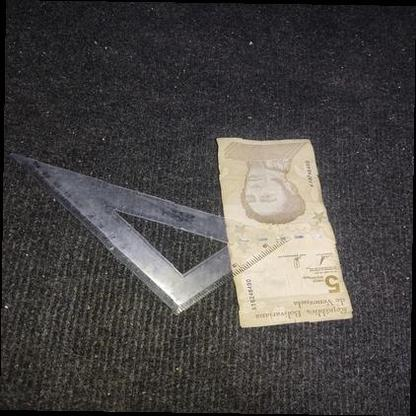five-front-vef: (214, 137, 353, 328)
